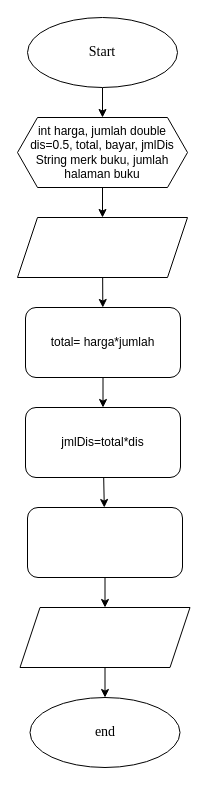
Some shapes in this 208 by 785 pixel diagram are drawn without their labels. The centre of each missing label's shape, as x and y in pixels:
"bayar=total-jmlDis" goes at (104,542).
"harga, jumlah" goes at (102,247).
"jmlDis bayar" goes at (104,637).
